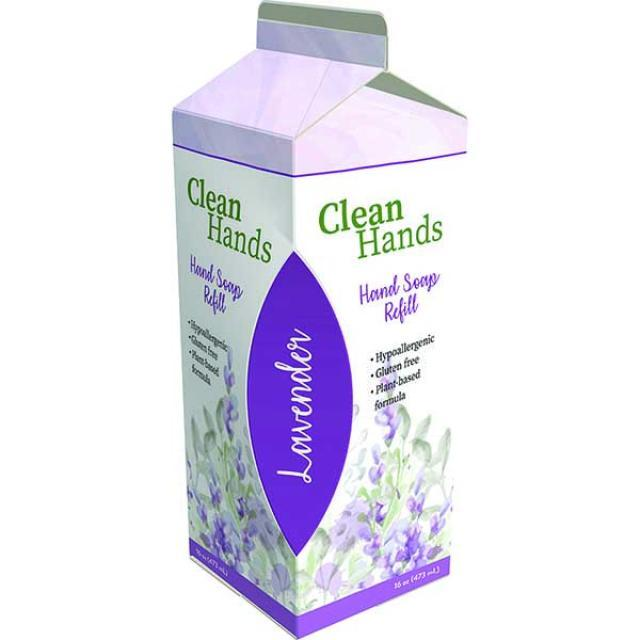Carton: (156, 0, 478, 640)
